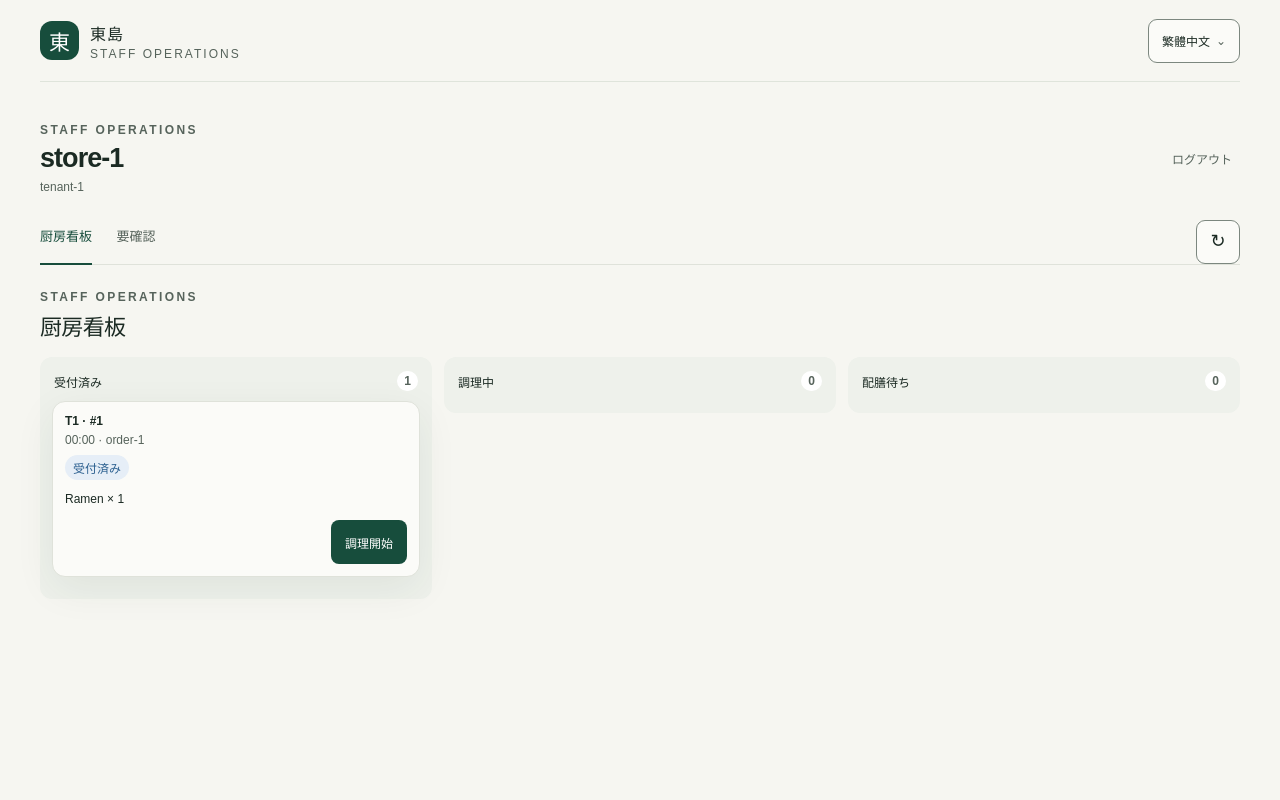
staff cookie authentication UI › offers step-up after a write returns 403 and the session probe is not fresh
What coordinates should you click on to do the following:
click the button "調理開始"
I would click on:
 (369, 542)
Its box is top-left (331, 520), bottom-right (407, 564).
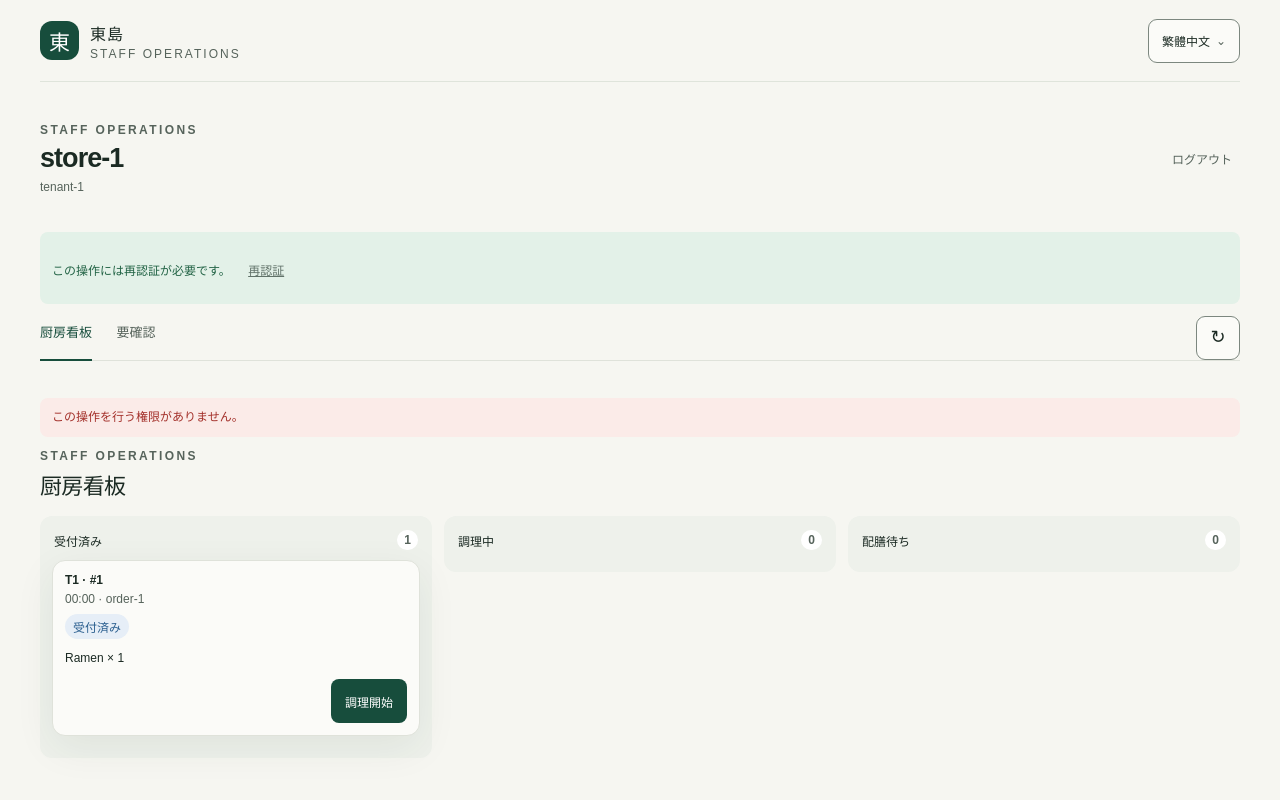
Expected: the link "再認証" is shown, top-left (248, 264), bottom-right (284, 278)
Expected: the text "この操作には再認証が必要です。" is shown, top-left (52, 264), bottom-right (231, 278)
